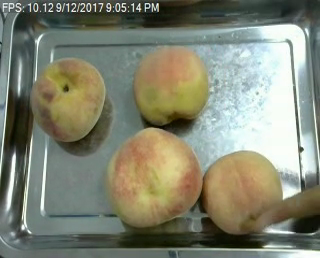Peach: (104, 126, 203, 227), (202, 150, 282, 233), (29, 57, 106, 142), (133, 48, 210, 125)
